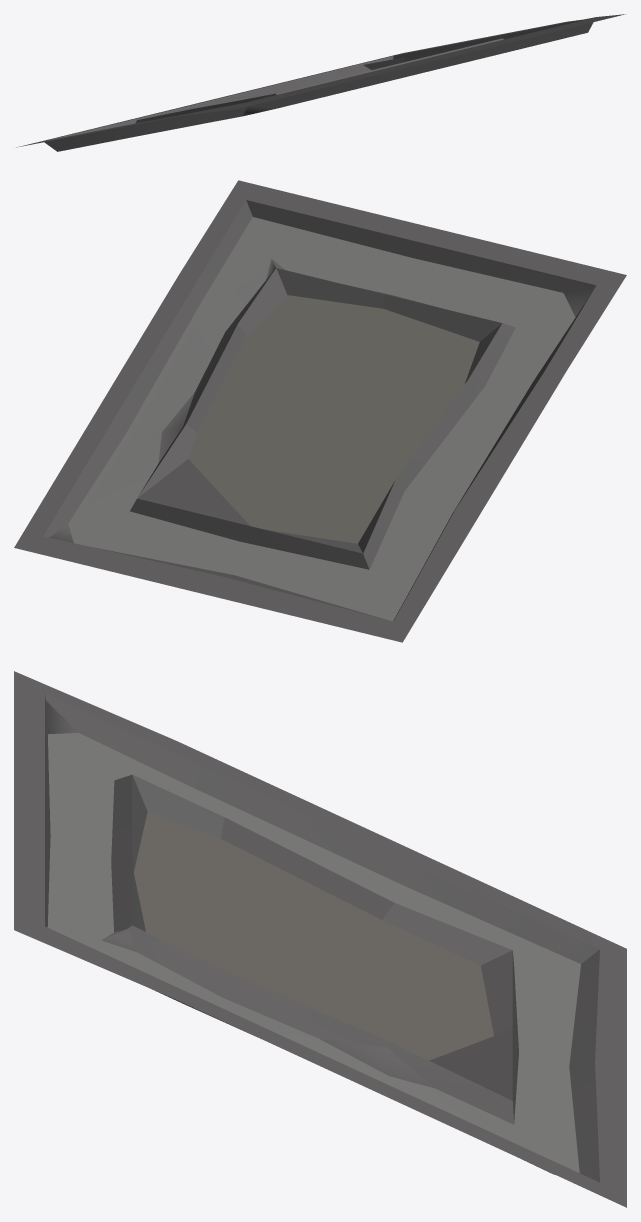
Rendered from SM_Env_Ceiling_Stone_Stairs_01.glb.
3 views of the same model, one above another, from view 1: azimuth 30°, elevation 25°; view 2: azimuth 150°, elevation 25°; view 3: azimuth 270°, elevation 25° (orthographic). The views are drawn at different scales.
Visible parts, largest first — view 1: SM_Env_Ceiling_Stone_Stairs_01; view 2: SM_Env_Ceiling_Stone_Stairs_01; view 3: SM_Env_Ceiling_Stone_Stairs_01.
Boxes of the visible parts, <box> form: SM_Env_Ceiling_Stone_Stairs_01: <box>16,14,626,151</box>; SM_Env_Ceiling_Stone_Stairs_01: <box>14,180,626,642</box>; SM_Env_Ceiling_Stone_Stairs_01: <box>14,671,626,1207</box>.
Bounding box in the file's own units: 0.05 × 0.025 × 0.05.
1 material, 1 textured.
